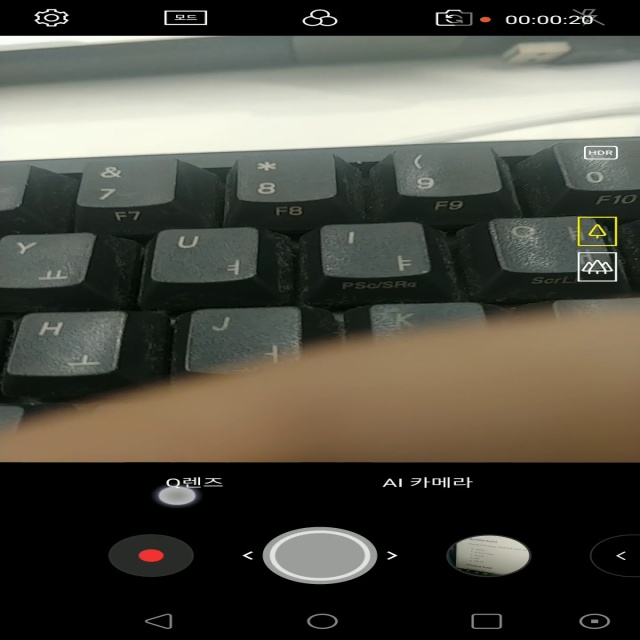Cursor: (155, 486, 200, 508)
